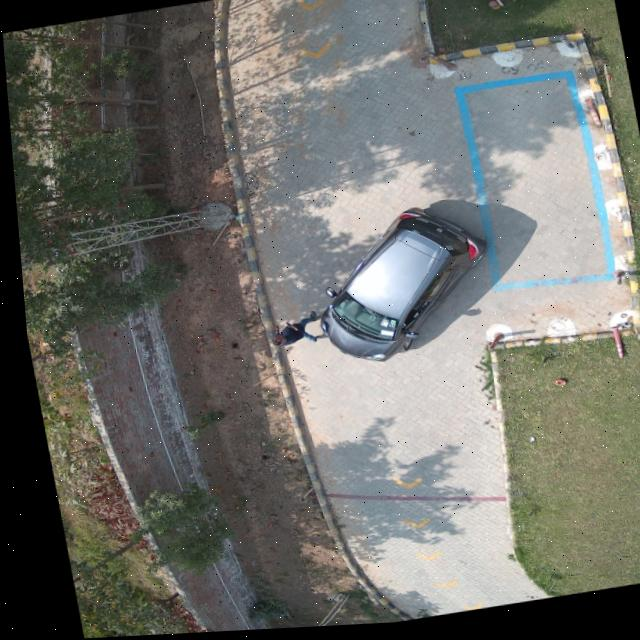car: (316, 210, 481, 364)
